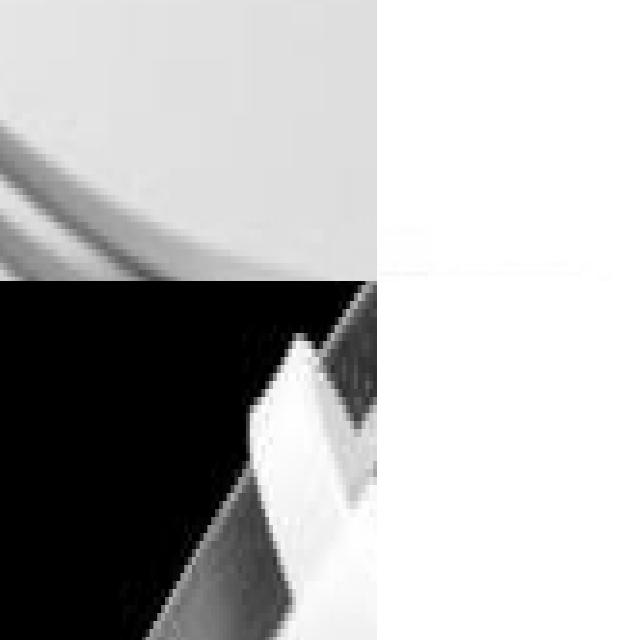forks: (0, 281, 377, 640), (0, 0, 377, 281), (377, 102, 640, 281)
